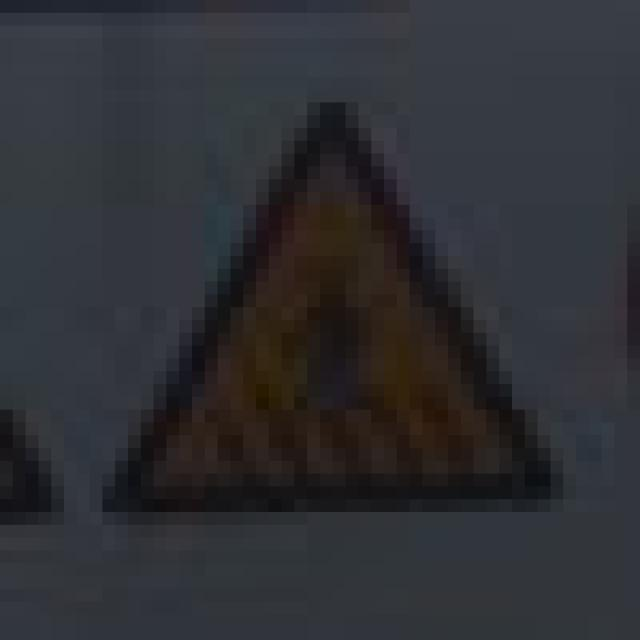PEDESTRIAN_CROSSING: (77, 77, 576, 512)
